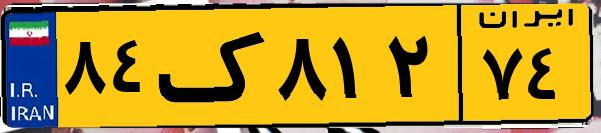1: (330, 28, 385, 110)
2: (385, 28, 445, 110)
4: (525, 38, 570, 115), (110, 28, 158, 98)
7: (475, 38, 525, 113)
8: (270, 28, 330, 110), (57, 26, 110, 100)
ک: (158, 12, 270, 120)
